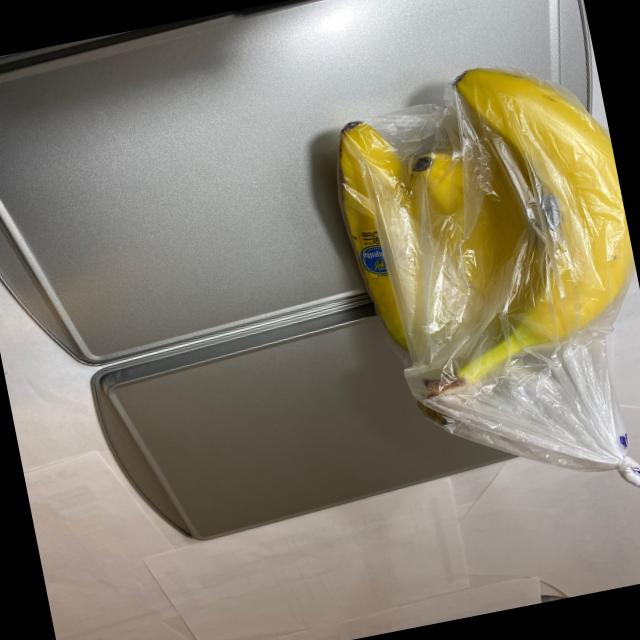banana: (306, 40, 640, 447)
